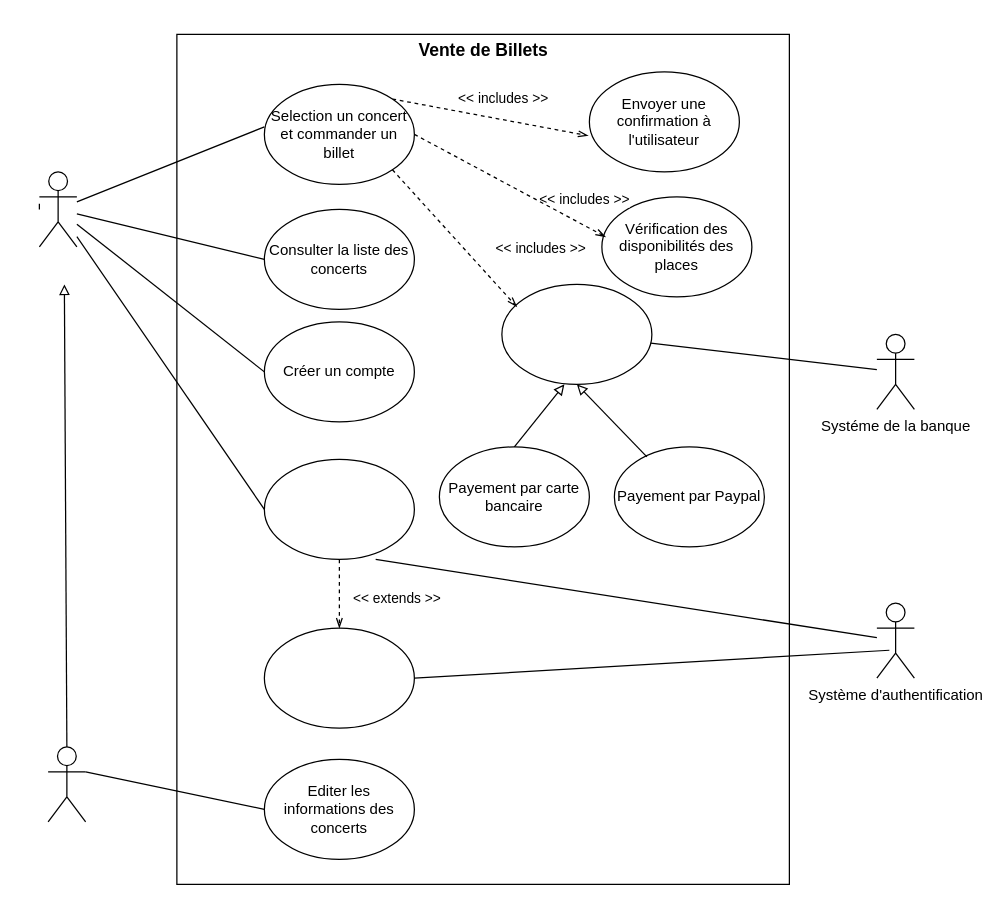
This 1005x906 diagram has some shape labels left out. Here are the shapes that lost their labels. From the top down, the centre of each, then its label:
[57,209]: Utilisateur
[576,333]: Payer les billets
[338,508]: Se connecter
[338,677]: Authentification multifacteur
[66,784]: Administateur
